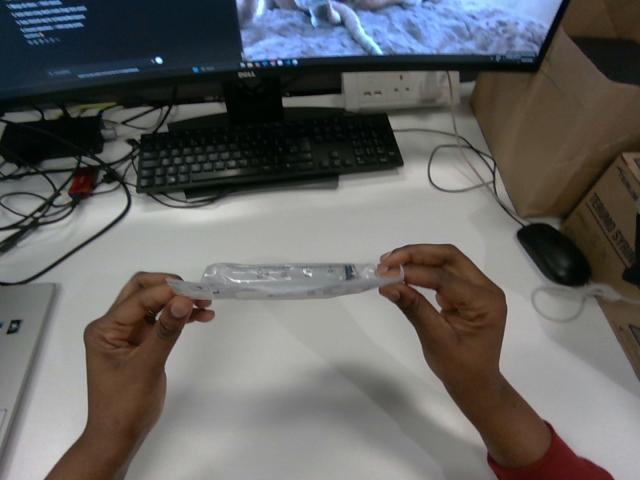syringe: (167, 263, 403, 299)
